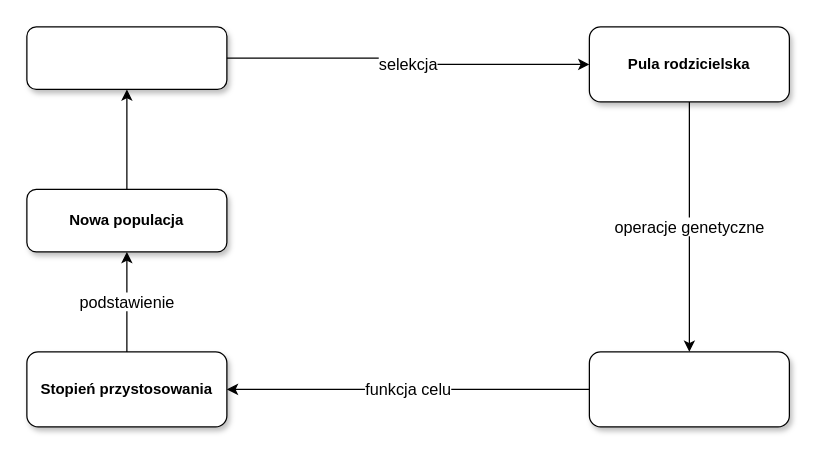
Some shapes in this 819 by 458 pixel diagram are drawn without their labels. The shapes that lost their labels are listed below. From the top down, each one's centre as x and y in pixels, then its label:
At [127,59]: "Populacja".
At [690,391]: "Potomkowie".
